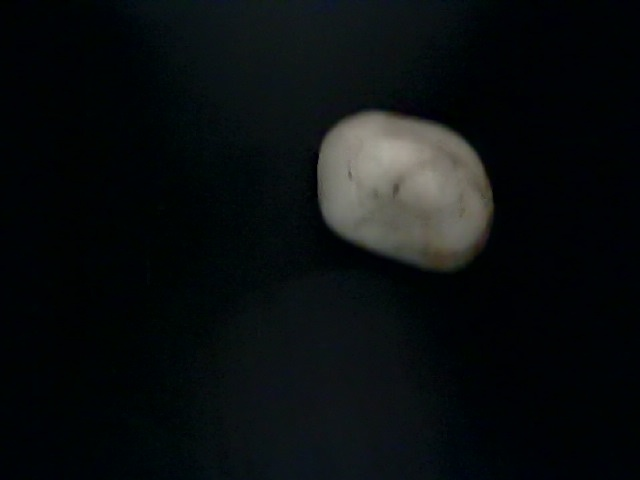QTLJ: (337, 147, 544, 446)
